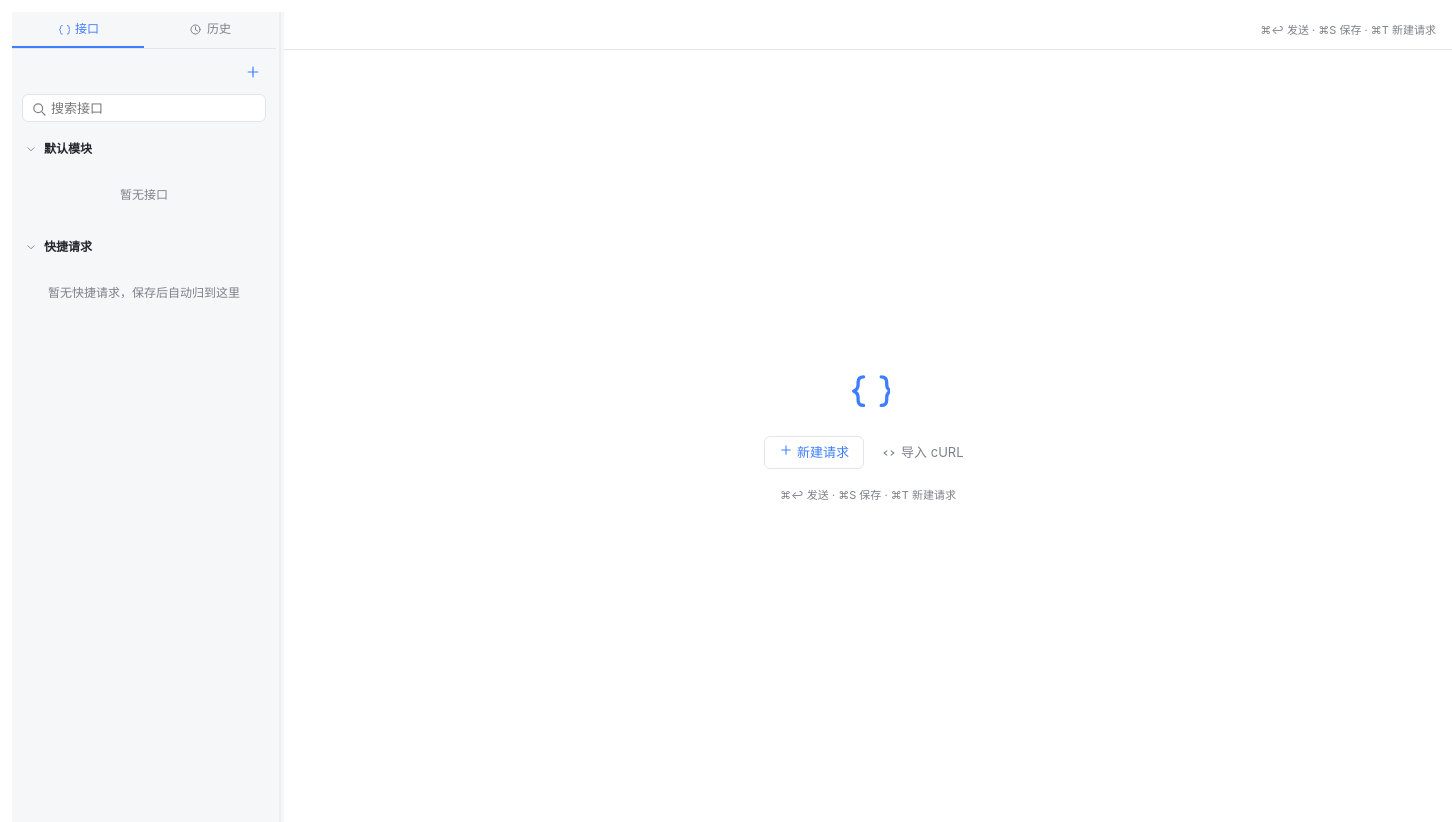
Test: history pane › lists a recorded request with its method, url, status and time
This screenshot has width=1452, height=822.
Click the button "历史".
click(210, 30)  # box [144, 12, 276, 48]
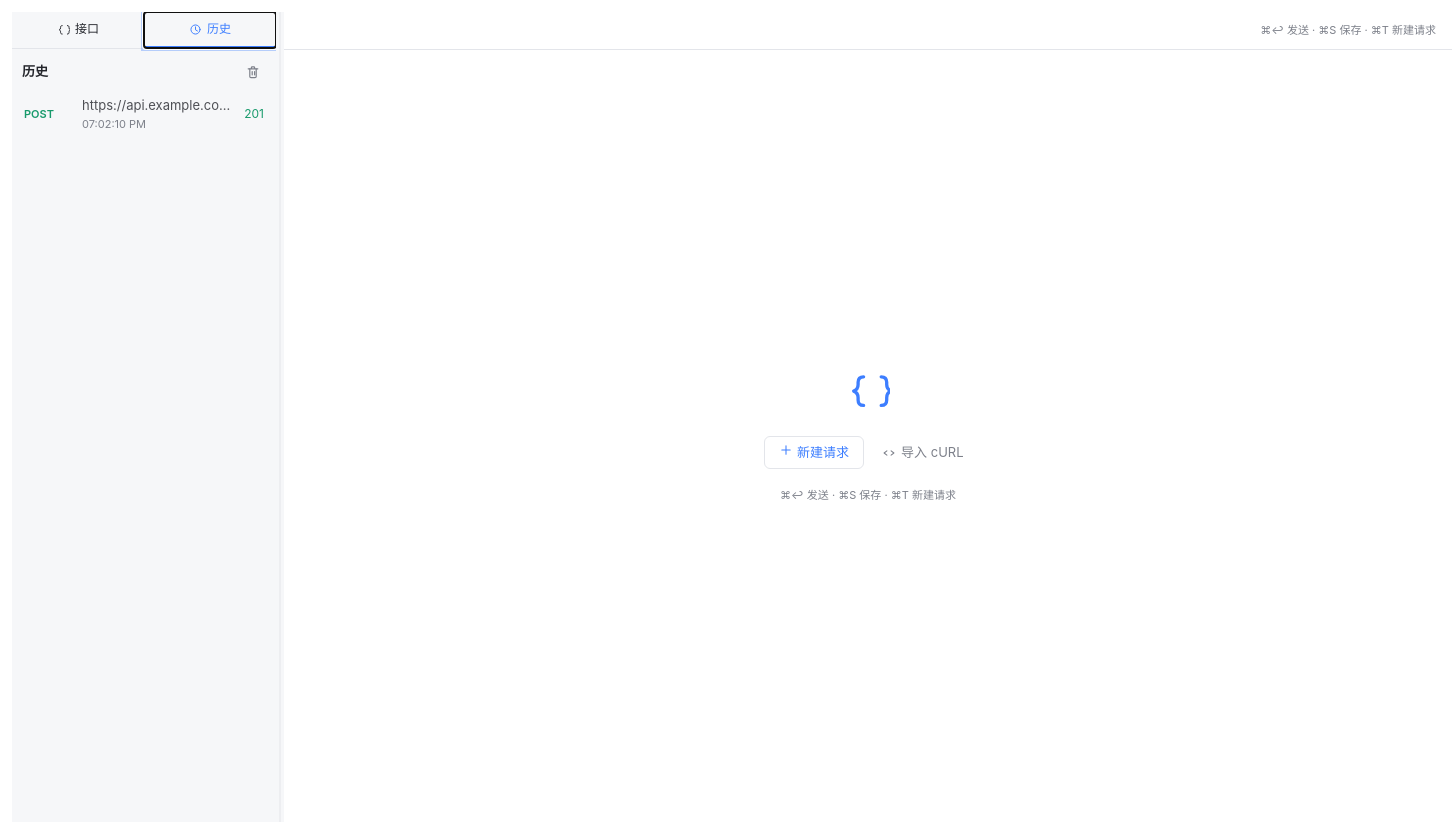
Expected: the text "https://api.example.com/users?page=2" is shown, [82, 96, 238, 116]
Expected: the text "201" is shown, [244, 105, 264, 123]
Expected: the text "07:02:10 PM" is shown, [82, 116, 146, 130]
